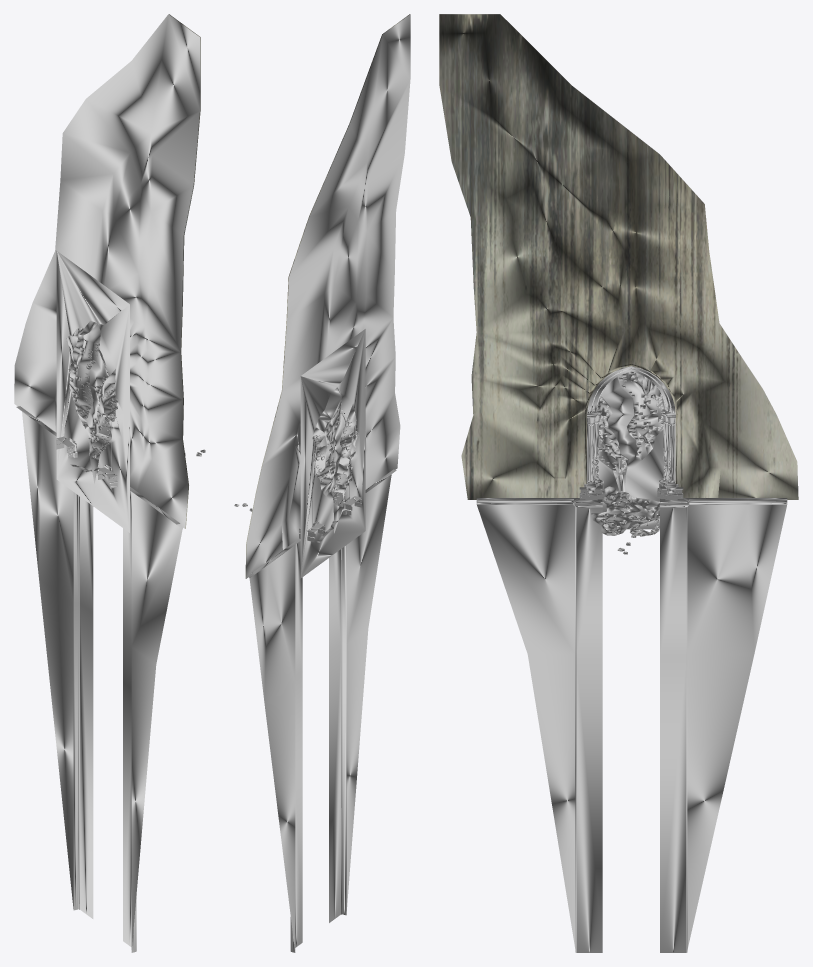
The picture shows the model from 3 angles, left to right: view 1: azimuth 30°, elevation 25°; view 2: azimuth 150°, elevation 25°; view 3: azimuth 270°, elevation 25°; orthographic projection. The views are drawn at different scales.
Visible parts, largest first — view 1: mesh1, mesh0, mesh3, mesh2, mesh7, mesh9; view 2: mesh1, mesh0, mesh3, mesh2, mesh7; view 3: mesh7, mesh1, mesh0, mesh9, mesh3, mesh2, mesh4.
Part boxes in pixels (x1,y1,x2,y2): mesh1: (14,14,199,952); mesh0: (56,251,129,532); mesh3: (67,320,116,483); mesh2: (66,338,205,458); mesh7: (169,14,200,528); mesh9: (16,348,182,528); mesh1: (246,14,410,952); mesh0: (300,329,365,578); mesh3: (313,387,357,533); mesh2: (234,400,358,522); mesh7: (245,14,409,578); mesh7: (439,14,798,499); mesh1: (439,14,796,952); mesh0: (597,377,665,529); mesh9: (476,366,787,507); mesh3: (597,371,664,492); mesh2: (597,373,663,554); mesh4: (591,486,659,535).
Size of the model in its own units: 12.5 by 94.7 by 32.96.
